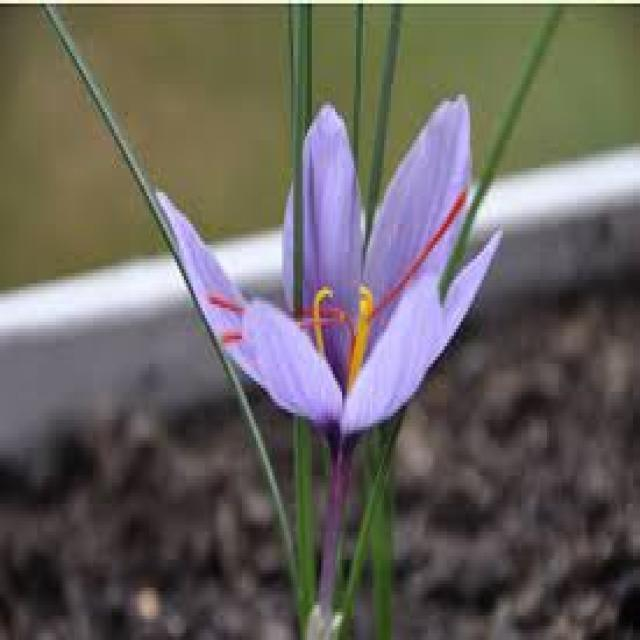Flower: (148, 107, 508, 432)
stigma: (366, 186, 469, 320), (205, 275, 353, 331)
